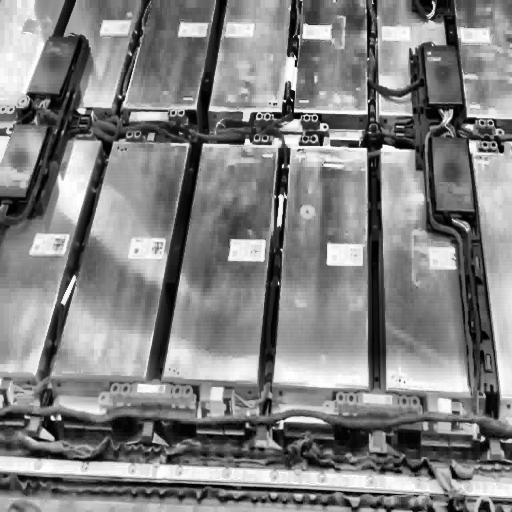battery_module: (52, 142, 191, 381), (161, 141, 279, 386), (2, 138, 101, 379), (274, 145, 371, 390), (381, 151, 471, 393), (123, 0, 217, 113), (209, 0, 291, 115), (293, 0, 368, 115), (378, 0, 448, 119)
busbar: (100, 380, 197, 415), (324, 391, 423, 425), (118, 106, 191, 136), (254, 113, 329, 142)
high_volt_cable: (1, 402, 512, 441), (423, 108, 481, 406), (0, 36, 88, 228)
low_volt_cable: (183, 115, 292, 410)
